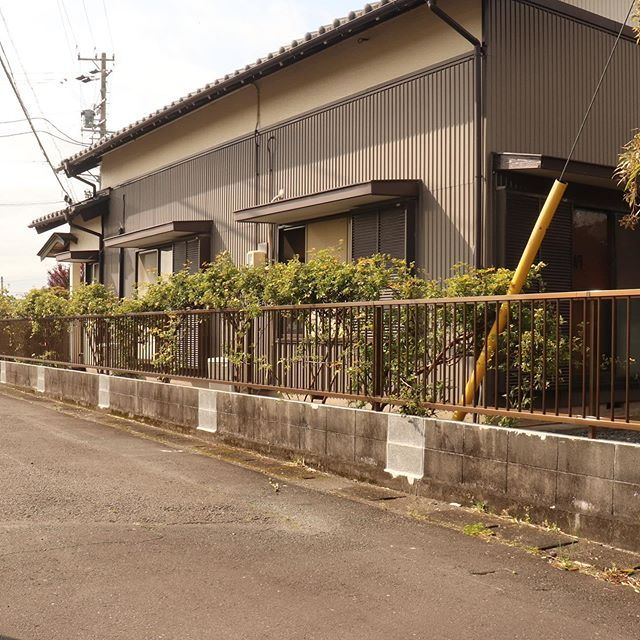building: (47, 48, 626, 392)
street: (1, 401, 607, 640)
